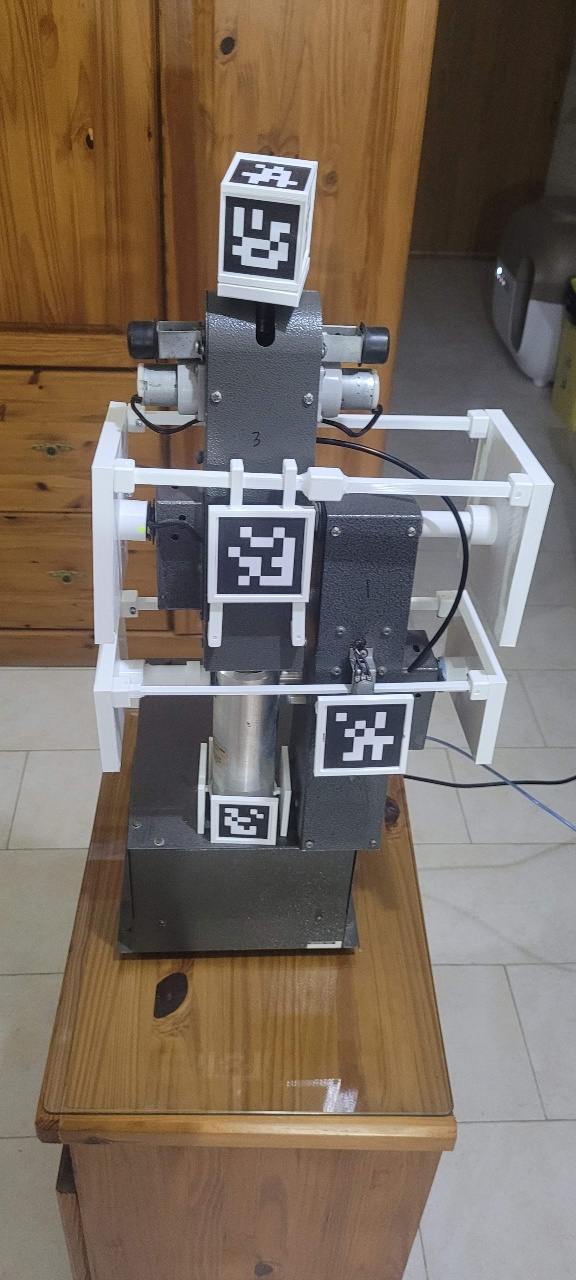Robot: (119, 207, 535, 1016)
